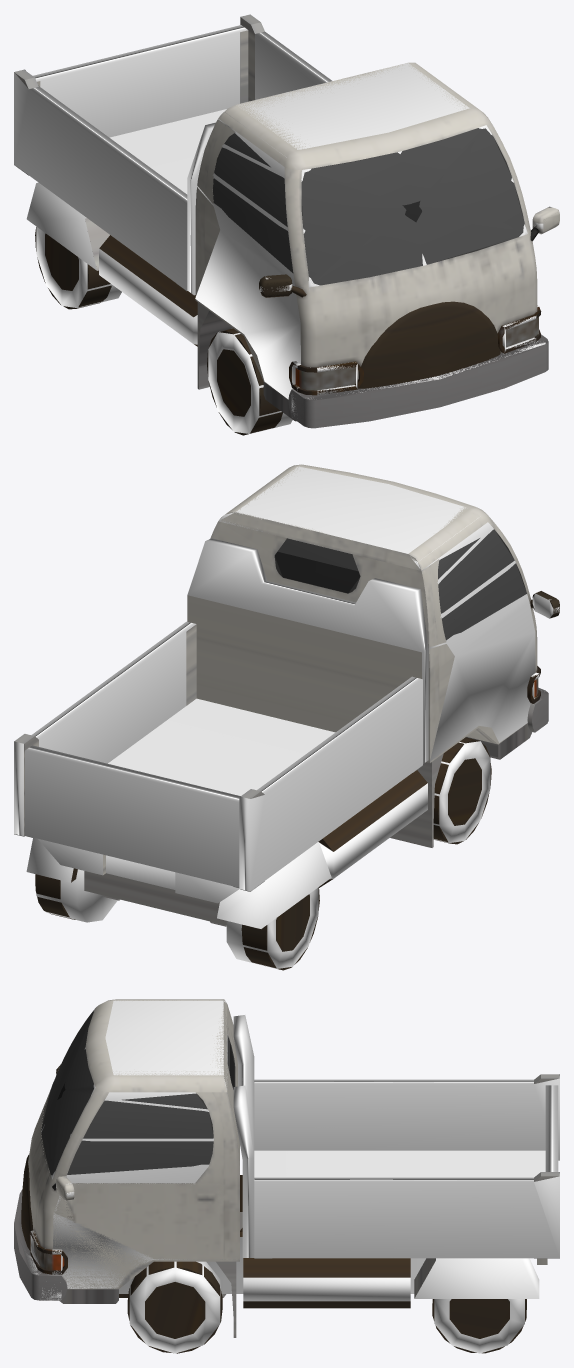
File: objects_un_dlc1_car01.gltf
The picture shows the model from 3 angles, top to bottom: view 1: azimuth 30°, elevation 25°; view 2: azimuth 150°, elevation 25°; view 3: azimuth 270°, elevation 25°; orthographic projection. The views are drawn at different scales.
Visible parts, largest first — view 1: um_objects_un_dlc1_car01_model_lod0Shape:objects_un_dlc1_car (×4), um_objects_un_dlc1_car01_model_lod1Shape:objects_un_dlc1_car (×2), um_objects_un_dlc1_car01_model_lod2Shape:objects_un_dlc1_car; view 2: um_objects_un_dlc1_car01_model_lod0Shape:objects_un_dlc1_car (×4), um_objects_un_dlc1_car01_model_lod1Shape:objects_un_dlc1_car (×2), um_objects_un_dlc1_car01_model_lod2Shape:objects_un_dlc1_car (×2); view 3: um_objects_un_dlc1_car01_model_lod0Shape:objects_un_dlc1_car (×4), um_objects_un_dlc1_car01_model_lod2Shape:objects_un_dlc1_car (×2), um_objects_un_dlc1_car01_model_lod1Shape:objects_un_dlc1_car (×2).
Part boxes in pixels (x1,y1,x2,y2): um_objects_un_dlc1_car01_model_lod0Shape:objects_un_dlc1_car (×4): [14, 14, 559, 435]; um_objects_un_dlc1_car01_model_lod1Shape:objects_un_dlc1_car (×2): [35, 63, 559, 434]; um_objects_un_dlc1_car01_model_lod2Shape:objects_un_dlc1_car: [45, 219, 547, 424]; um_objects_un_dlc1_car01_model_lod0Shape:objects_un_dlc1_car (×4): [14, 464, 559, 970]; um_objects_un_dlc1_car01_model_lod1Shape:objects_un_dlc1_car (×2): [60, 467, 548, 969]; um_objects_un_dlc1_car01_model_lod2Shape:objects_un_dlc1_car (×2): [16, 522, 547, 969]; um_objects_un_dlc1_car01_model_lod0Shape:objects_un_dlc1_car (×4): [14, 999, 559, 1353]; um_objects_un_dlc1_car01_model_lod2Shape:objects_un_dlc1_car (×2): [42, 1008, 525, 1347]; um_objects_un_dlc1_car01_model_lod1Shape:objects_un_dlc1_car (×2): [14, 1000, 526, 1352].
Bounding box in the file's own units: 1.84 × 1.76 × 3.27.
Materials: 5 (4 with a texture image).
